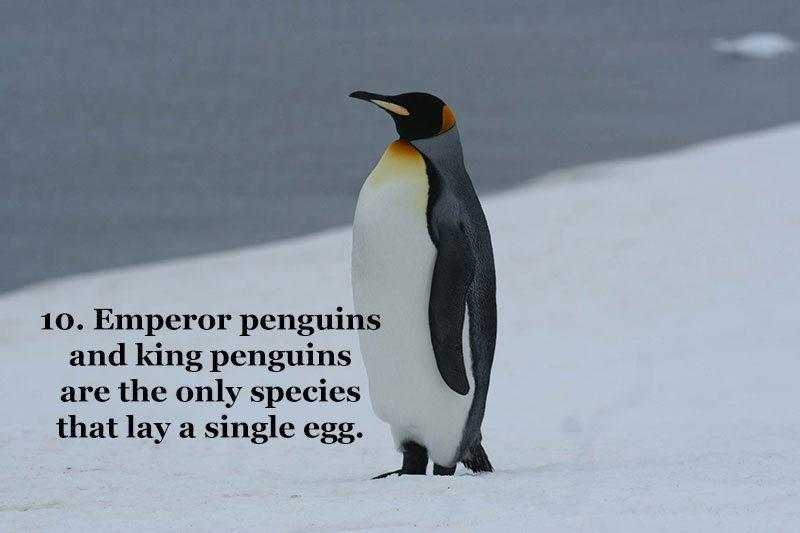king: (315, 64, 521, 492)
